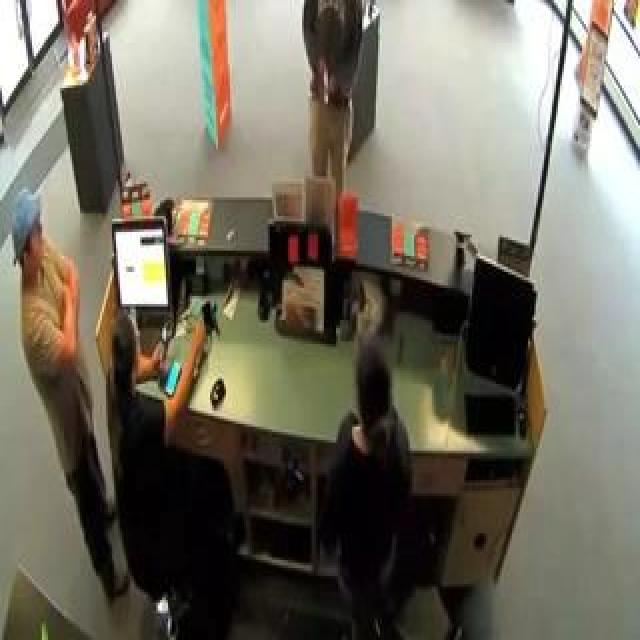low_con: (6, 188, 45, 282)
no_con: (352, 337, 397, 448), (105, 305, 146, 398)
